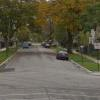Car: (53, 42, 72, 63)
